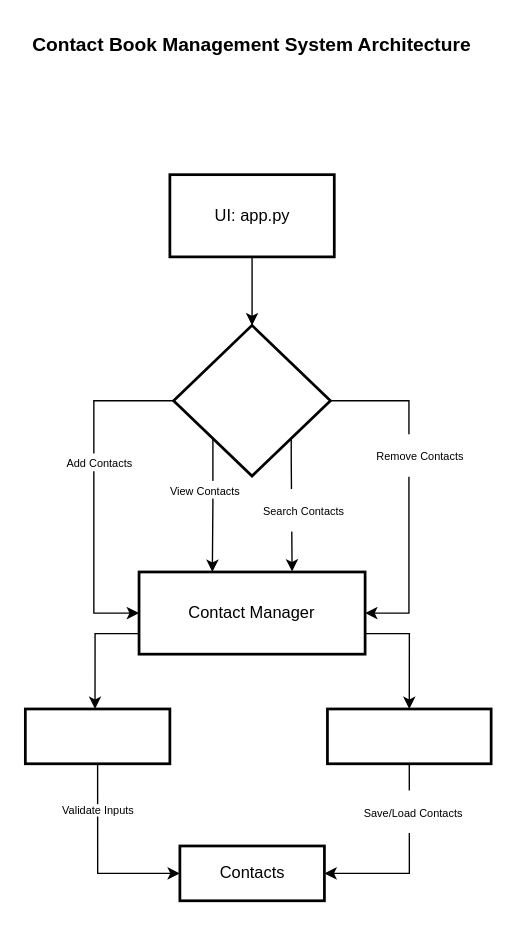
This 515x925 diagram has some shape labels left out. Each missing label, with the box of its shape:
File Handler: (325, 707, 492, 764)
Menu System: (172, 323, 331, 477)
Validation: (23, 707, 171, 764)
